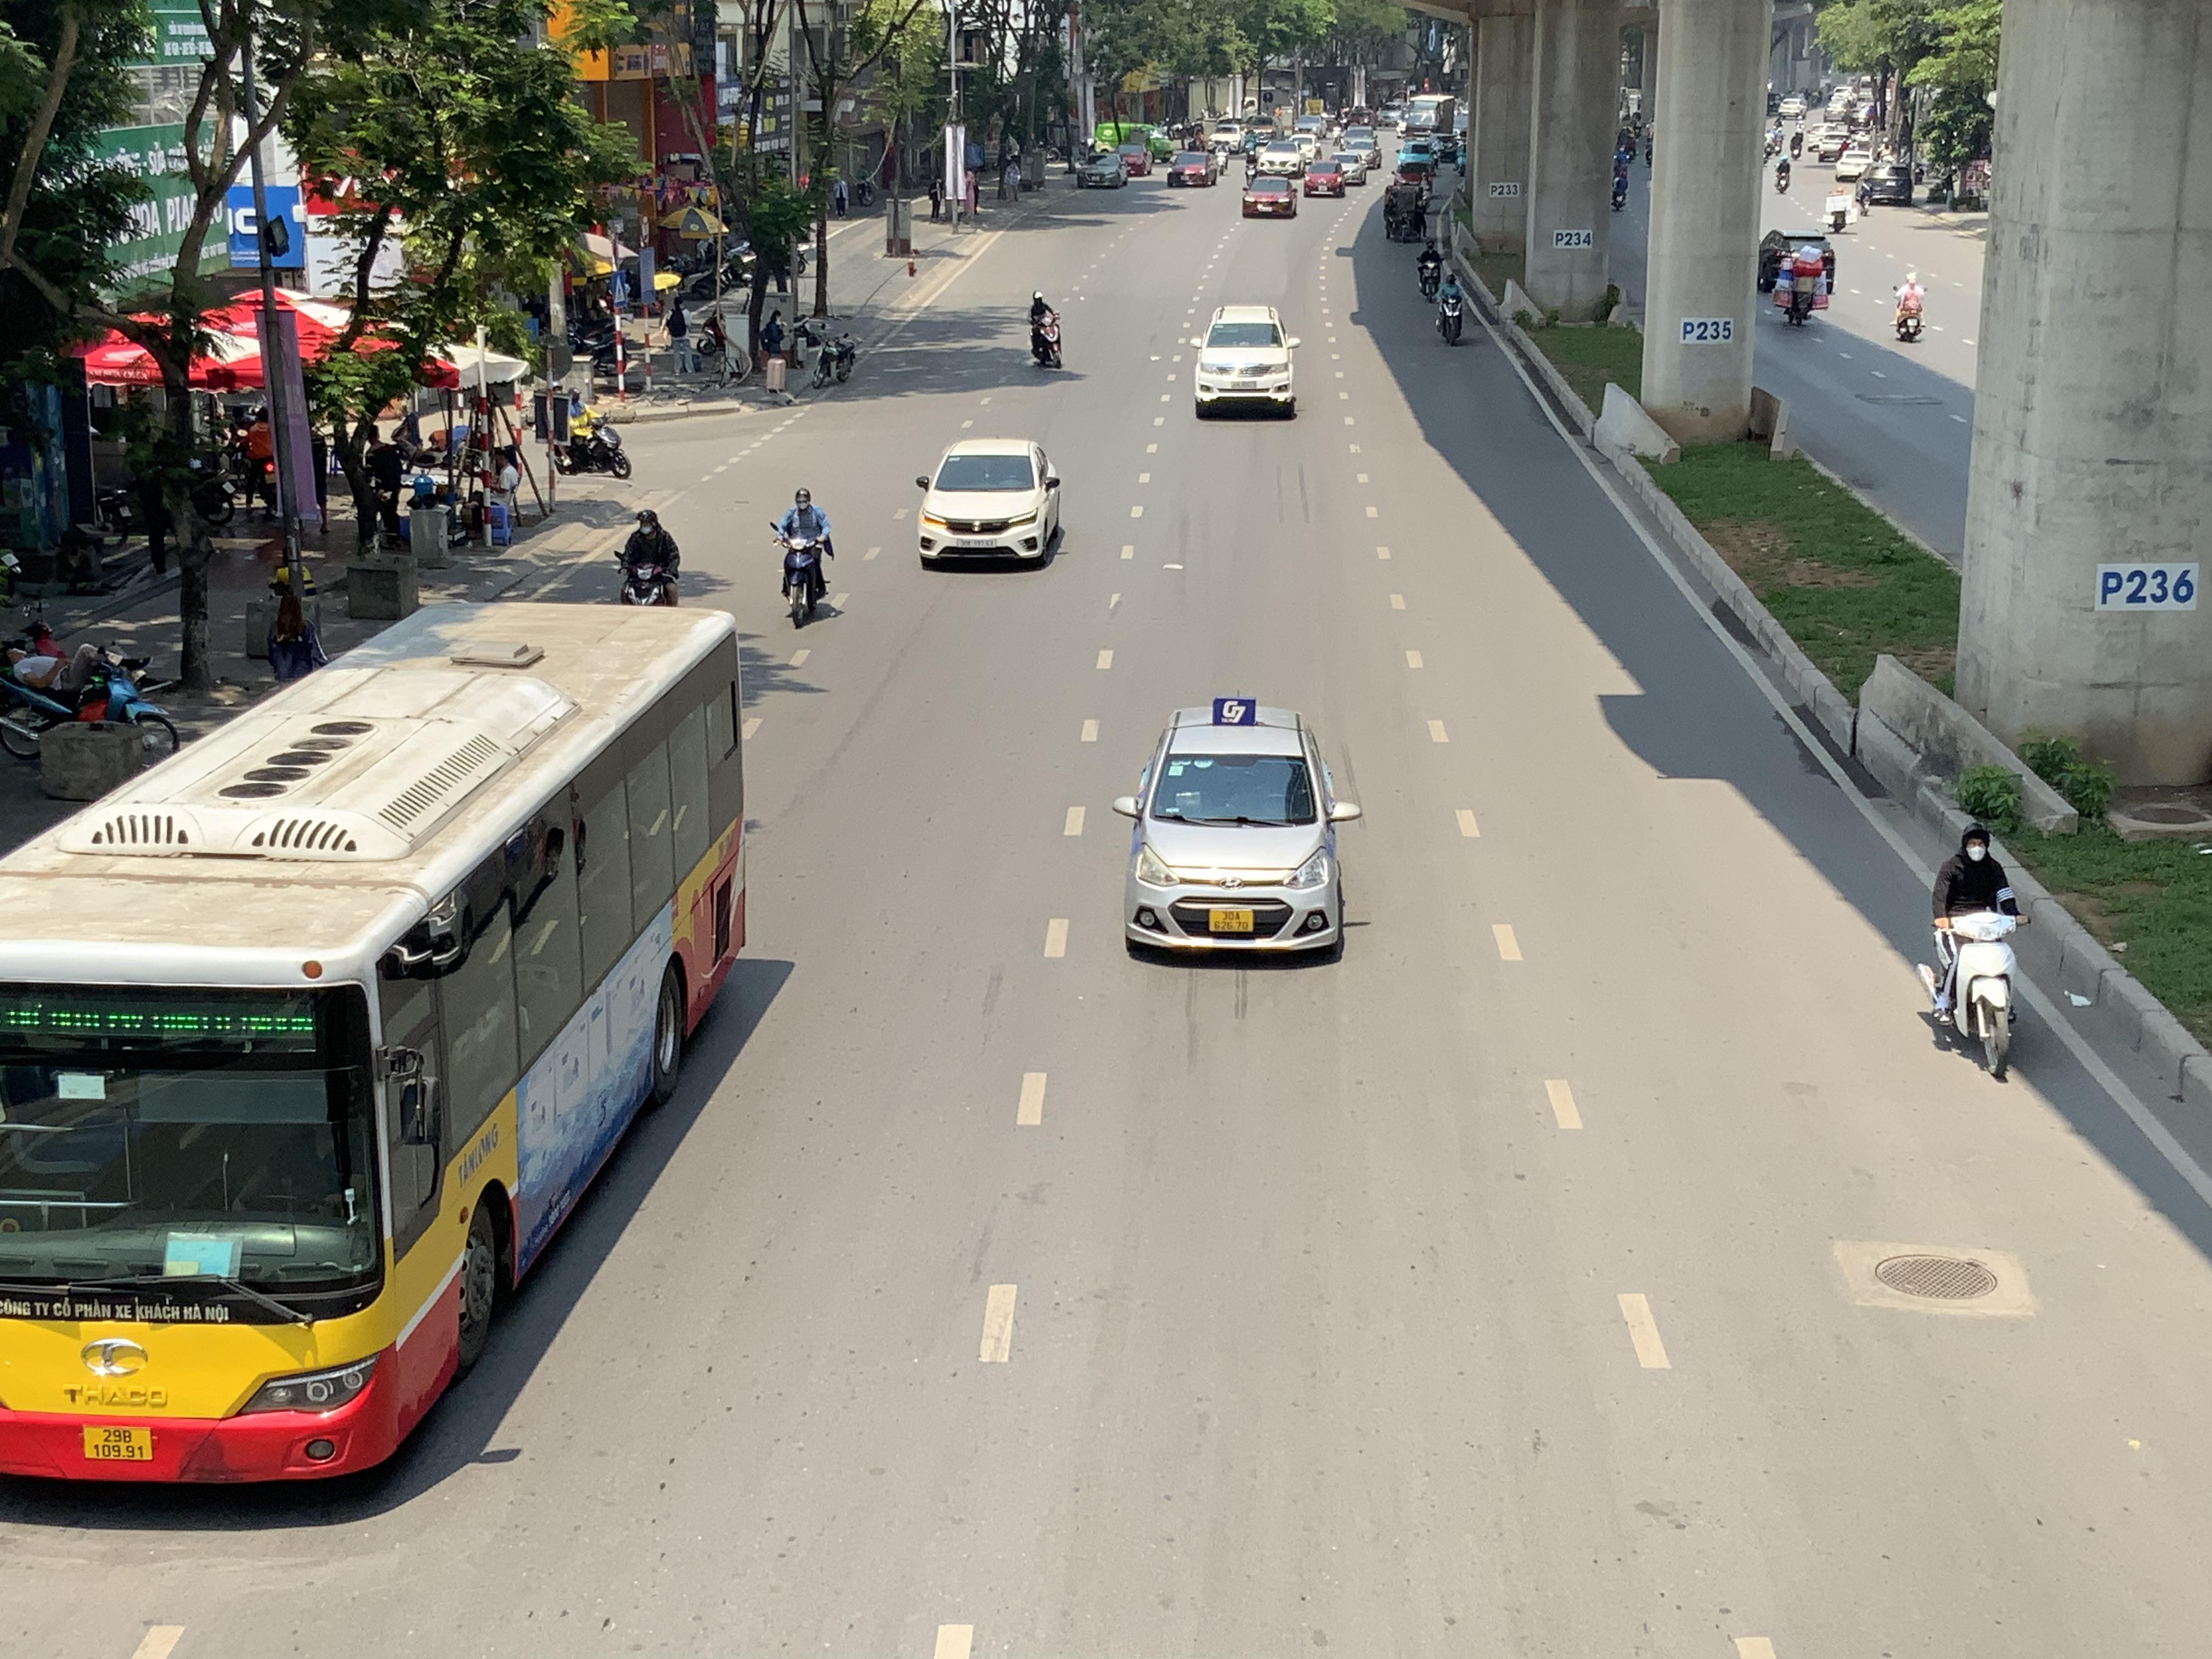BSD: (956, 538, 996, 549)
BSV: (82, 1427, 155, 1460), (1209, 908, 1254, 934)
bus: (0, 596, 754, 1485)
car: (1111, 697, 1364, 962), (914, 436, 1064, 570), (1191, 303, 1301, 420), (1240, 173, 1298, 218), (1167, 148, 1219, 188), (1076, 150, 1127, 190), (1256, 141, 1306, 176), (1301, 160, 1346, 197), (1331, 152, 1367, 185)
motorbike: (1921, 819, 2026, 1082), (0, 631, 181, 765), (772, 486, 836, 627), (615, 507, 683, 605), (550, 397, 631, 479), (1773, 247, 1820, 329), (810, 314, 859, 385), (1383, 181, 1432, 242), (1028, 291, 1062, 369), (1433, 265, 1467, 343), (1893, 268, 1926, 342), (1416, 234, 1446, 300)
